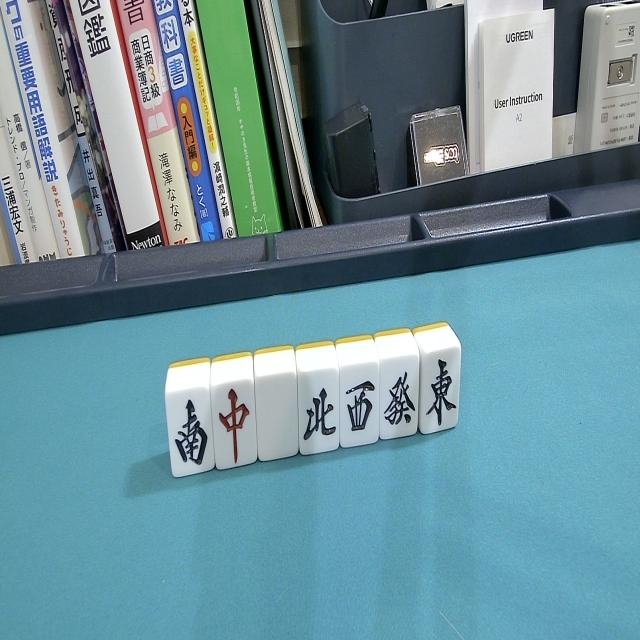chun: (208, 347, 262, 483)
haku: (250, 342, 302, 476)
hatsu: (374, 322, 424, 453)
nan: (164, 352, 216, 492)
pe-: (293, 338, 344, 466)
sya-: (332, 329, 382, 461)
ton: (412, 321, 463, 445)
